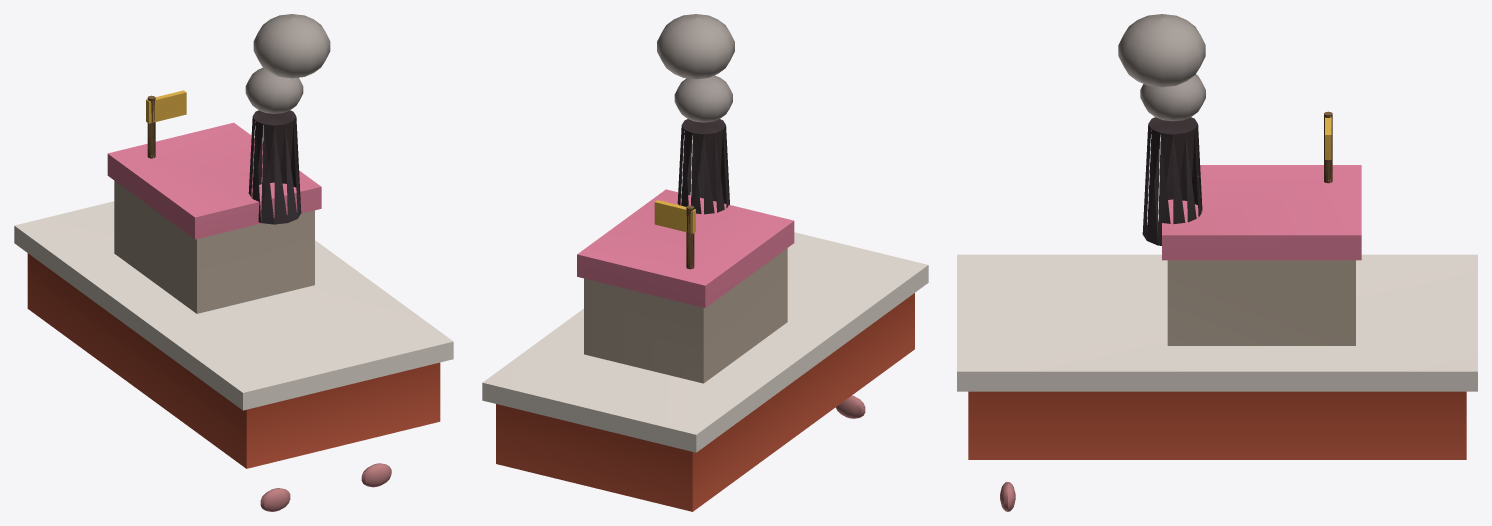
3 renders of one model, left to right at view 1: azimuth 30°, elevation 25°; view 2: azimuth 150°, elevation 25°; view 3: azimuth 270°, elevation 25°, orthographic. The views are drawn at different scales.
Visible parts, largest first — view 1: pet_p746ce7f0; view 2: pet_p746ce7f0; view 3: pet_p746ce7f0.
Part boxes in pixels (box(x1,y1,x2,y2)): pet_p746ce7f0: box(14, 14, 453, 511); pet_p746ce7f0: box(482, 14, 928, 511); pet_p746ce7f0: box(957, 14, 1477, 511).
Bounding box in the file's own units: 0.5 × 0.9592 × 0.94.
